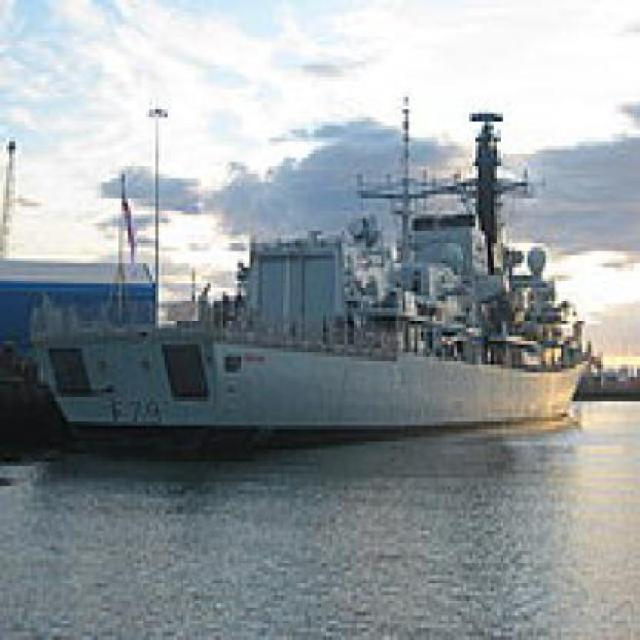warship2: (47, 98, 604, 475)
